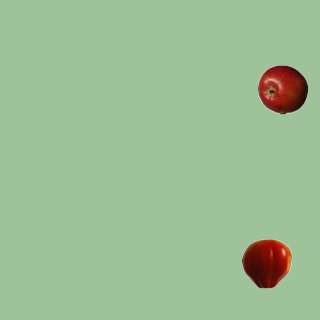Apple Braeburn: (257, 64, 307, 114)
Tomato 1: (241, 238, 291, 288)
